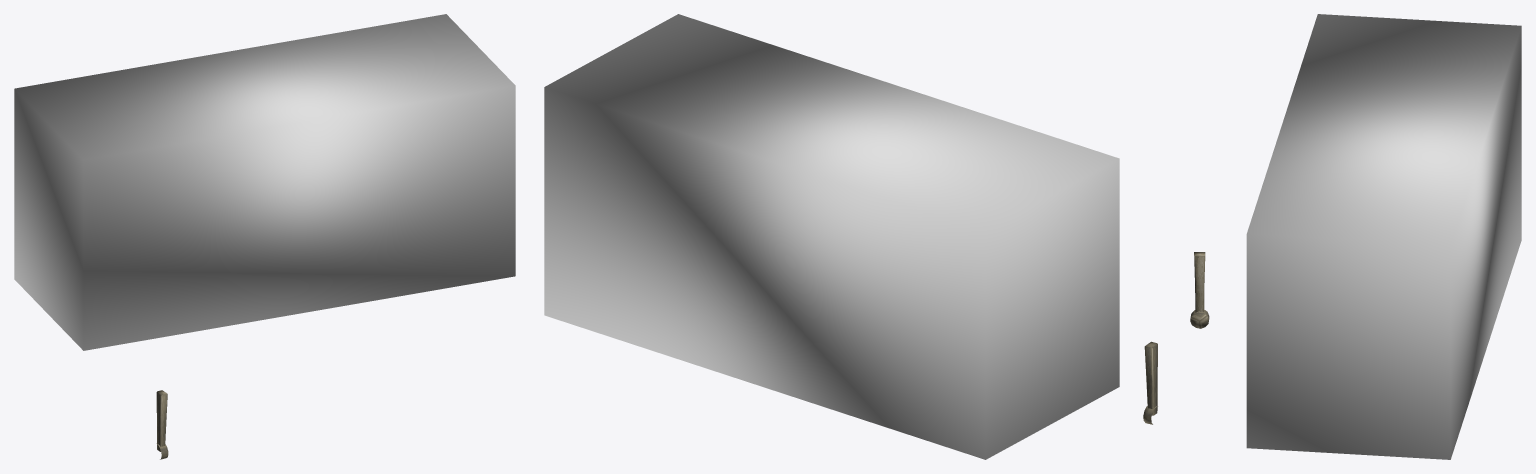
File: hj2-hide-mesh.glb
3 views of the same model, side by side, from view 1: azimuth 30°, elevation 25°; view 2: azimuth 150°, elevation 25°; view 3: azimuth 270°, elevation 25° (orthographic). The views are drawn at different scales.
Parts seen in each view (by area): view 1: hj2-hide-props-collide-16, hj2-hide-props; view 2: hj2-hide-props-collide-16, hj2-hide-props; view 3: hj2-hide-props-collide-16, hj2-hide-props.
Part boxes in pixels (x1,y1,x2,y2): hj2-hide-props-collide-16: (14,14,515,350); hj2-hide-props: (156,390,168,459); hj2-hide-props-collide-16: (544,14,1119,459); hj2-hide-props: (1143,341,1157,424); hj2-hide-props-collide-16: (1246,14,1521,459); hj2-hide-props: (1190,252,1209,328).
Bounding box in the file's own units: 5.55 × 3.35 × 3.36.
4 materials, 4 textured.
